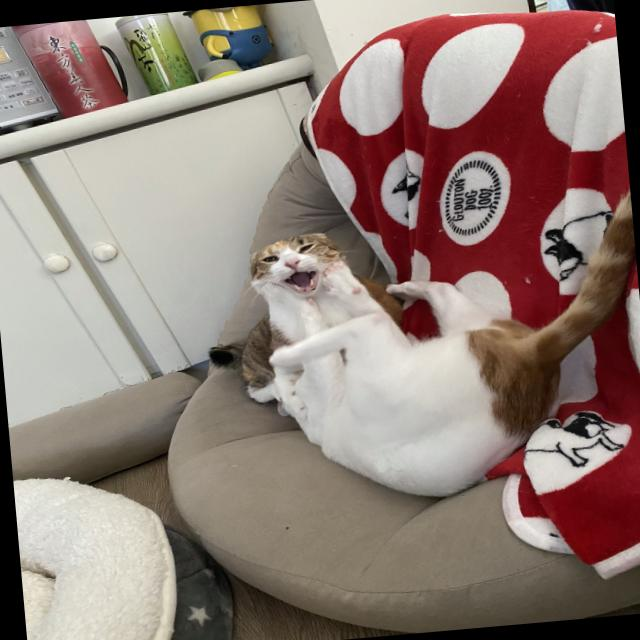cat1: (262, 263, 640, 515)
cat2: (212, 228, 362, 388)
